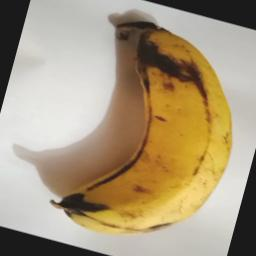Banana Unripe: (45, 6, 256, 256)
